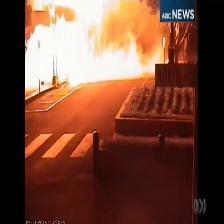fire: (26, 1, 157, 88)
